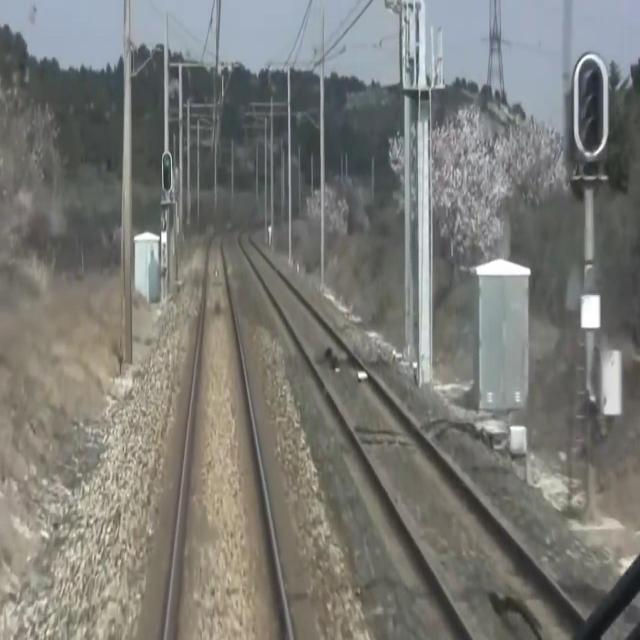rail-track: (238, 225, 601, 639), (168, 232, 289, 639)
